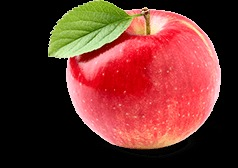apple: (67, 8, 222, 155)
